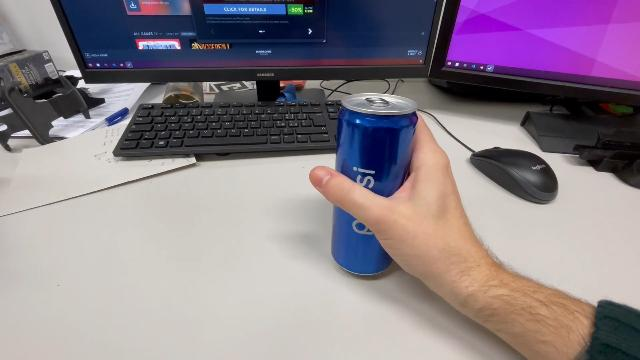Pepsi: (328, 89, 420, 279)
